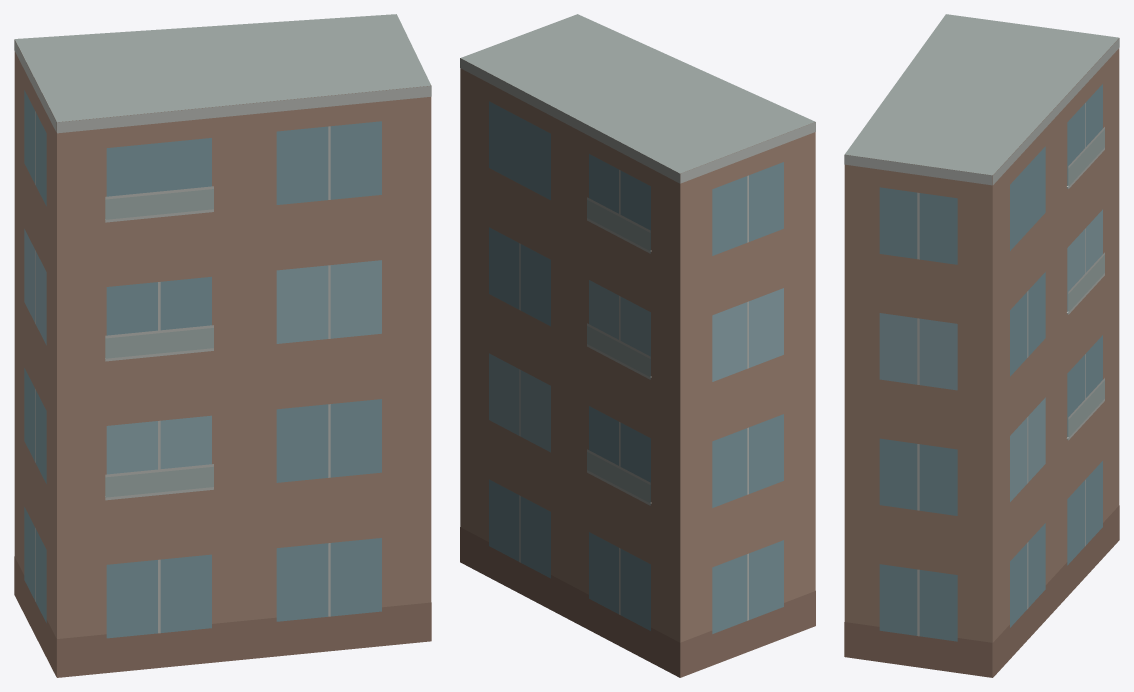
File: survey-upis-32725285.glb
3 views of the same model, side by side, from view 1: azimuth 30°, elevation 25°; view 2: azimuth 150°, elevation 25°; view 3: azimuth 270°, elevation 25° (orthographic). The views are drawn at different scales.
Parts seen in each view (by area): view 1: survey-upis-32725285.tmp; view 2: survey-upis-32725285.tmp; view 3: survey-upis-32725285.tmp.
Part boxes in pixels (x1,y1,x2,y2): survey-upis-32725285.tmp: (14, 14, 431, 677); survey-upis-32725285.tmp: (460, 14, 815, 677); survey-upis-32725285.tmp: (844, 14, 1119, 677).
Bounding box in the file's own units: 8.41 × 12.2 × 6.06.
